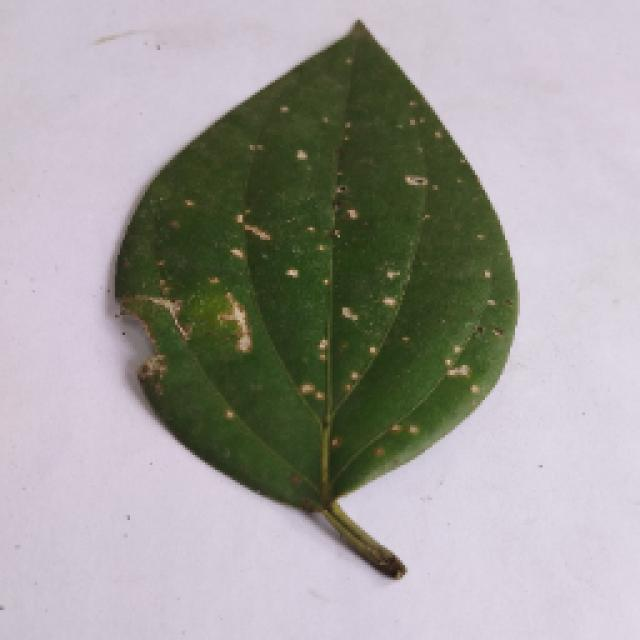pollu-disease: (110, 23, 512, 575)
